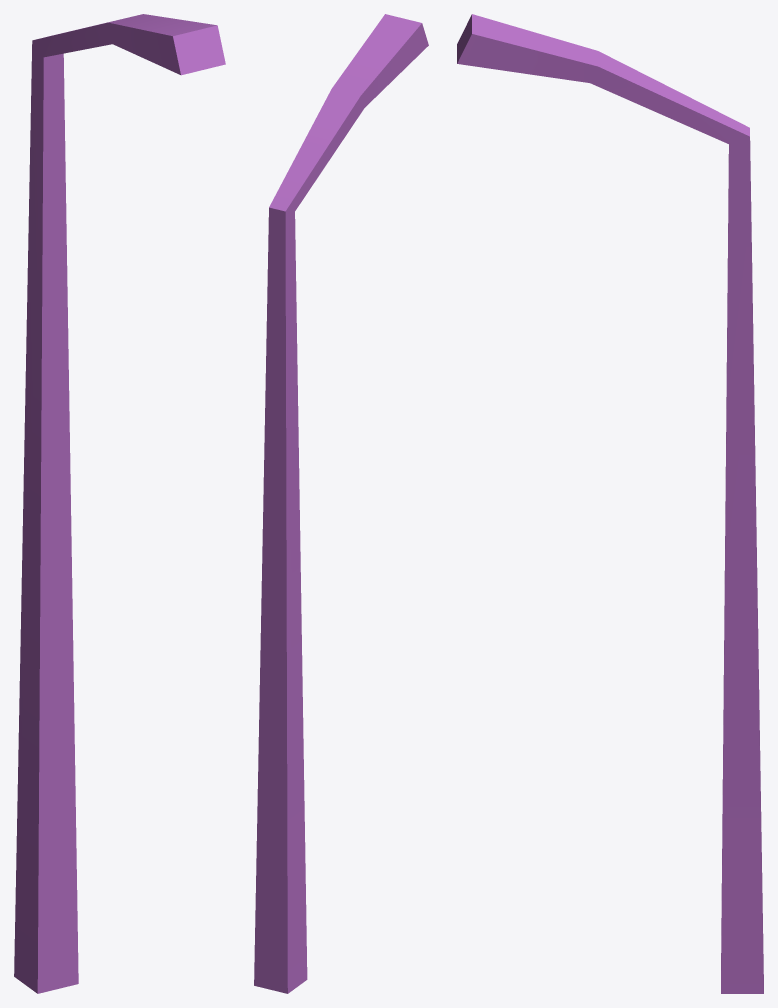
File: LampPost_Tall_COL.fbx
The picture shows the model from 3 angles, left to right: view 1: azimuth 30°, elevation 25°; view 2: azimuth 150°, elevation 25°; view 3: azimuth 270°, elevation 25°; orthographic projection. The views are drawn at different scales.
Visible parts, largest first — view 1: LampPost_Tall_COL; view 2: LampPost_Tall_COL; view 3: LampPost_Tall_COL.
Boxes of the visible parts, bbox=[...] form: LampPost_Tall_COL: bbox=[14, 14, 225, 993]; LampPost_Tall_COL: bbox=[254, 14, 428, 993]; LampPost_Tall_COL: bbox=[457, 14, 763, 993].
Bounding box in the file's own units: 32.84 × 741 × 214.
